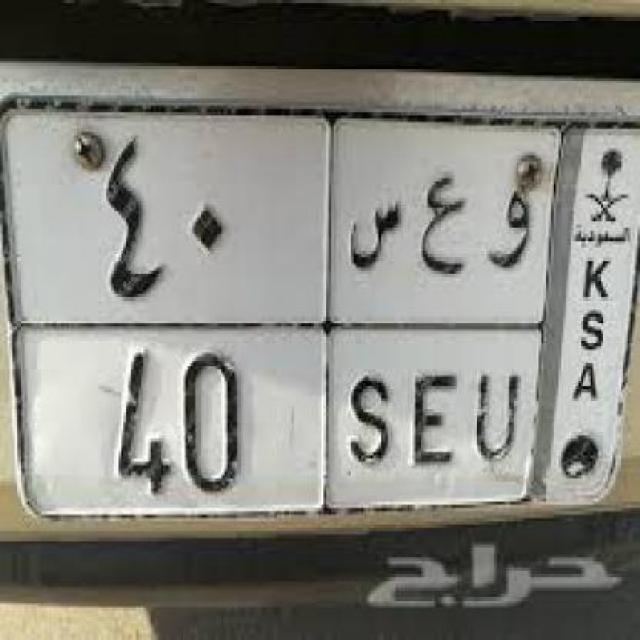license_plate: (0, 95, 638, 515)
